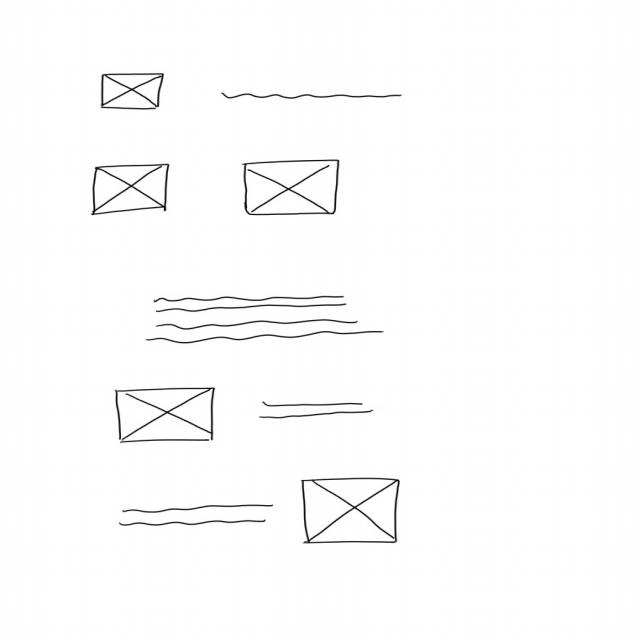image: (301, 478, 403, 546), (115, 388, 217, 444), (242, 161, 342, 217), (93, 164, 173, 217), (101, 73, 165, 111)
text: (221, 90, 405, 102)
textbox: (146, 294, 388, 346), (121, 504, 275, 528), (259, 400, 377, 421)
